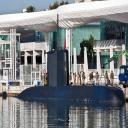submarine: (4, 13, 128, 104)
